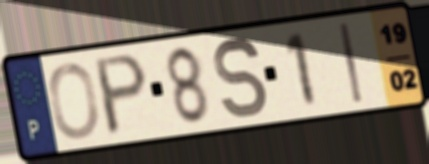1: (284, 30, 321, 107)
8: (163, 44, 214, 127)
I: (336, 20, 365, 106)
O: (46, 60, 102, 142)
P: (92, 50, 151, 140)
S: (212, 35, 271, 121)
